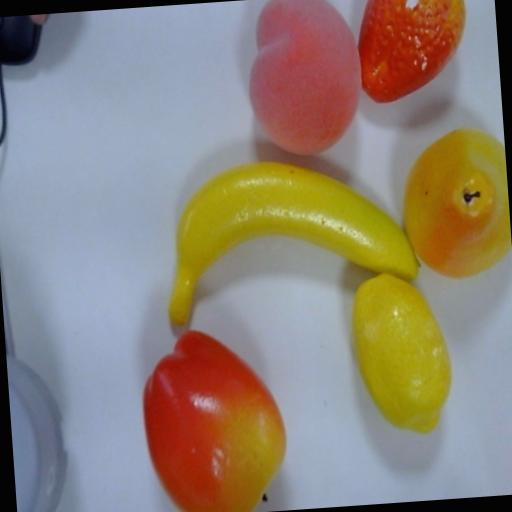Ripe: (146, 137, 424, 326), (131, 323, 284, 512), (238, 0, 363, 152), (347, 265, 454, 440), (399, 119, 512, 282), (343, 0, 471, 119)
